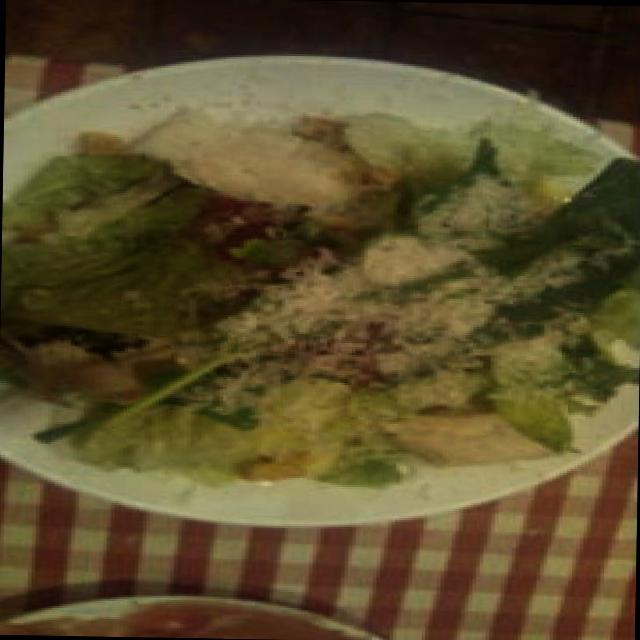Green Salad: (7, 86, 640, 471)
